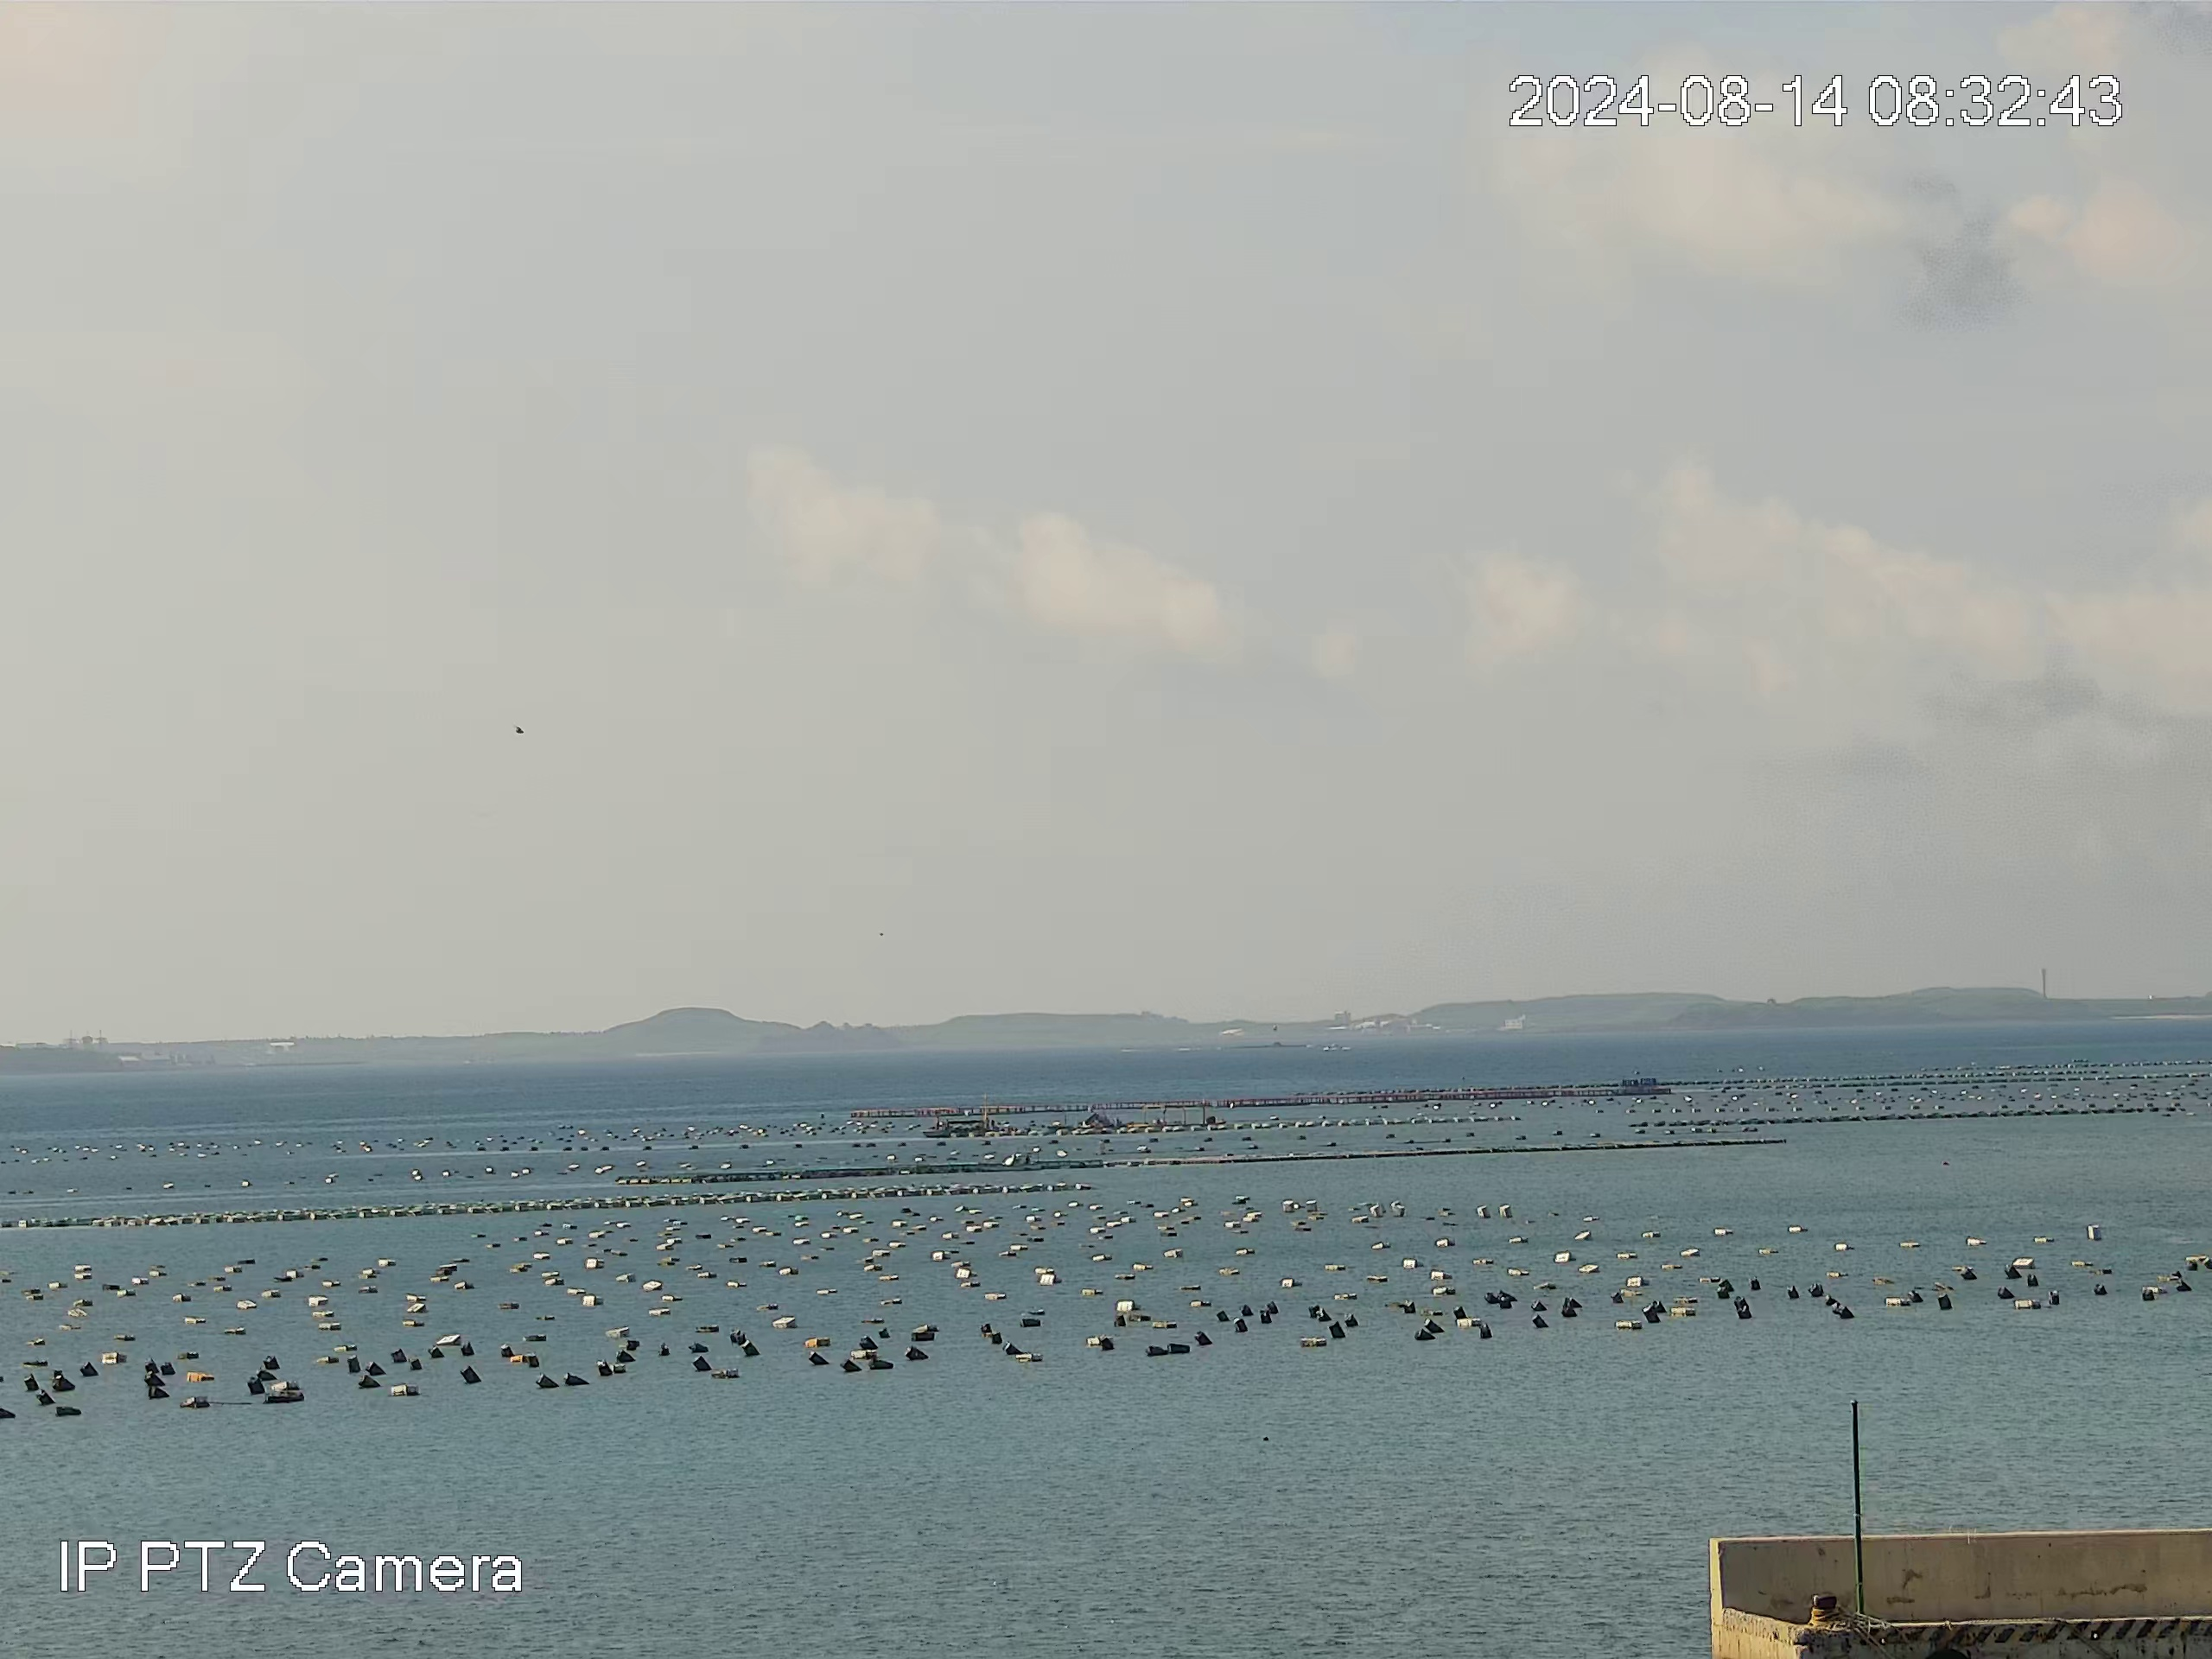boat: (923, 1115, 996, 1134)
